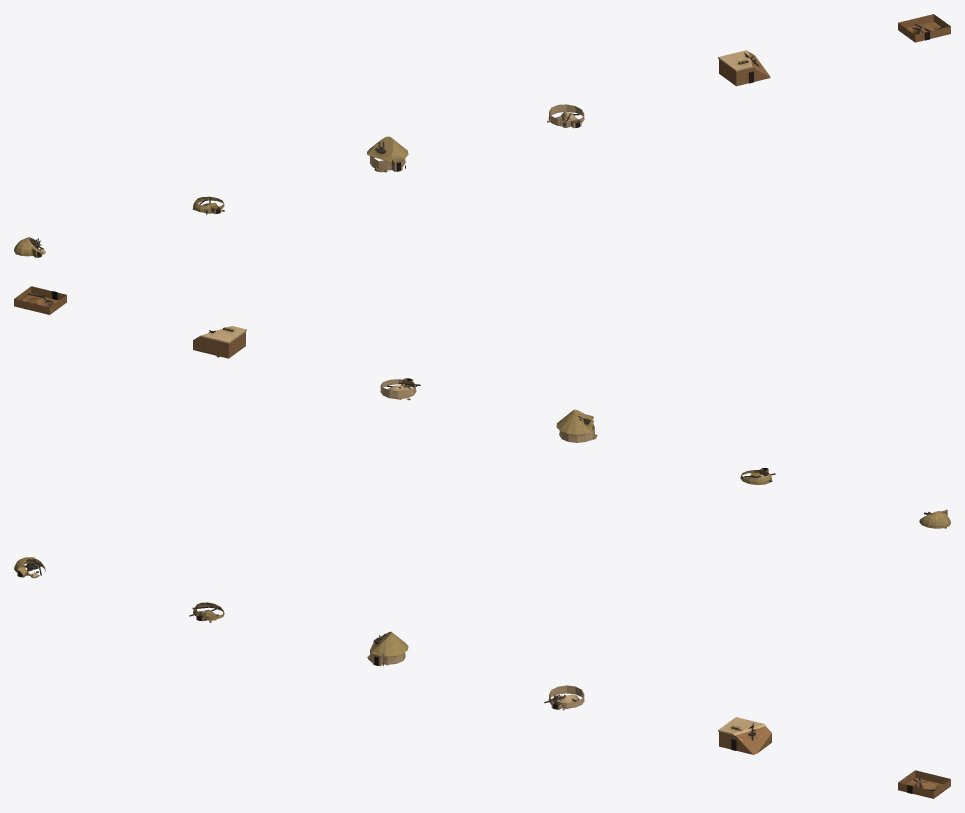
File: stone-nile-houses-damage.glb
3 views of the same model, one above another, from view 1: azimuth 30°, elevation 25°; view 2: azimuth 150°, elevation 25°; view 3: azimuth 330°, elevation 25° (orthographic).
Visible parts, largest first — view 1: LOD0.004, LOD0.002, LOD0.005, LOD0.003; view 2: LOD0.004, LOD0.005, LOD0.002, LOD0.003; view 3: LOD0.004, LOD0.005, LOD0.002, LOD0.003.
Boxes of the visible parts, box(x1,y1,x2,y2) form: LOD0.004: box(718, 50, 770, 86); LOD0.002: box(367, 136, 408, 172); LOD0.005: box(898, 14, 950, 42); LOD0.003: box(547, 104, 584, 128); LOD0.004: box(193, 326, 246, 358); LOD0.005: box(14, 286, 66, 314); LOD0.002: box(556, 409, 597, 442); LOD0.003: box(380, 378, 420, 400); LOD0.004: box(718, 717, 771, 754); LOD0.005: box(898, 770, 950, 798); LOD0.002: box(367, 631, 408, 666); LOD0.003: box(544, 685, 584, 710).
Size of what is drawn, in the model's own units: 15.54 by 0.4295 by 0.6568.
Materials: 1 (1 with a texture image).
